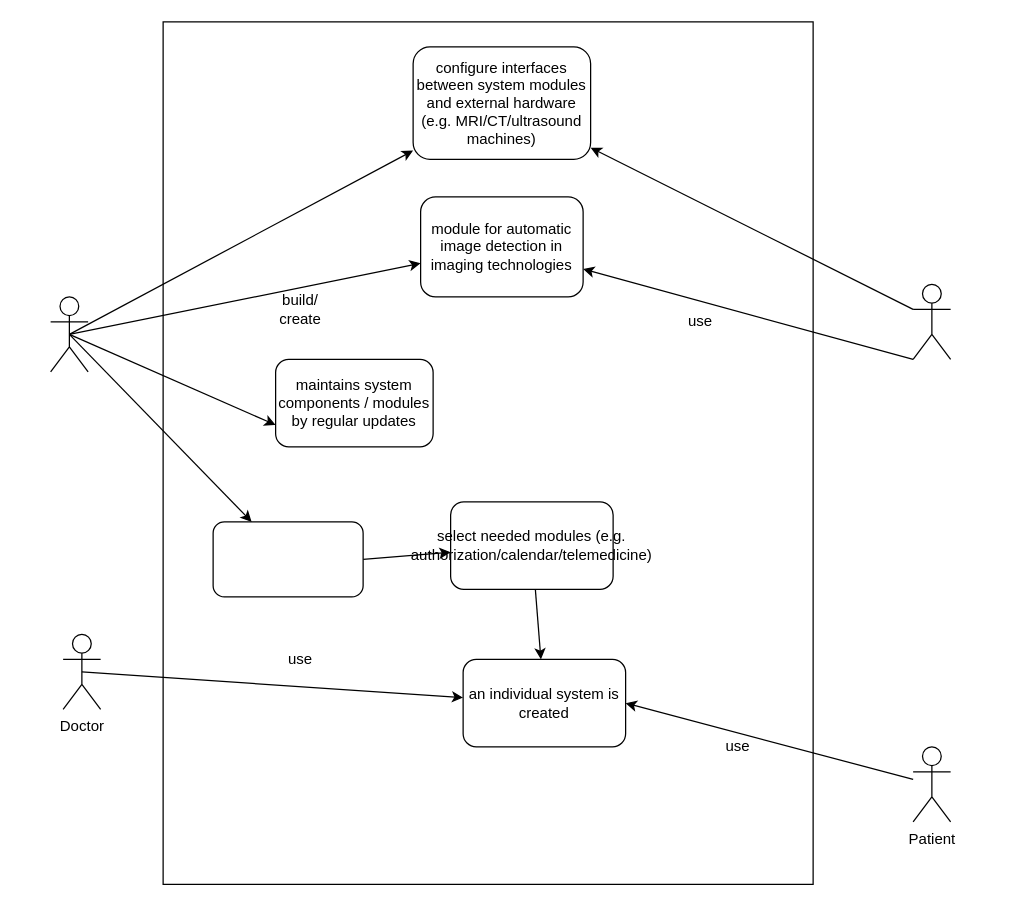
Some shapes in this 1026 by 906 pixel diagram are drawn without their labels. Each missing label, with the centre of its shape:
Healthcare company (e.g. Philips/Siemens): point (931, 321)
IT specialist (hospital/ medical office): point (68, 334)
select medical discipline (e.g. cardiology): point (287, 559)
